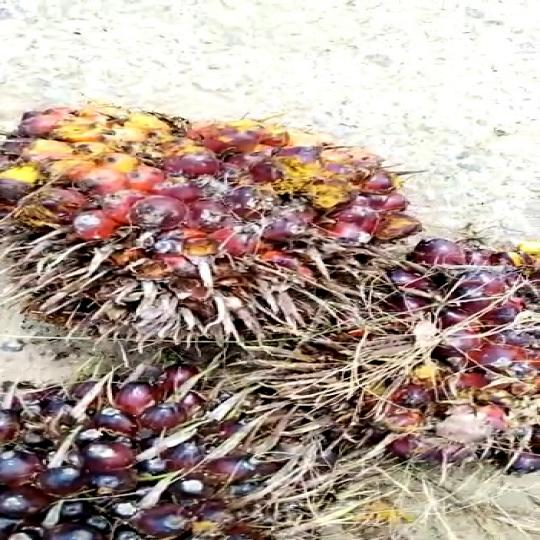masak: (0, 99, 440, 370), (0, 367, 350, 540)
